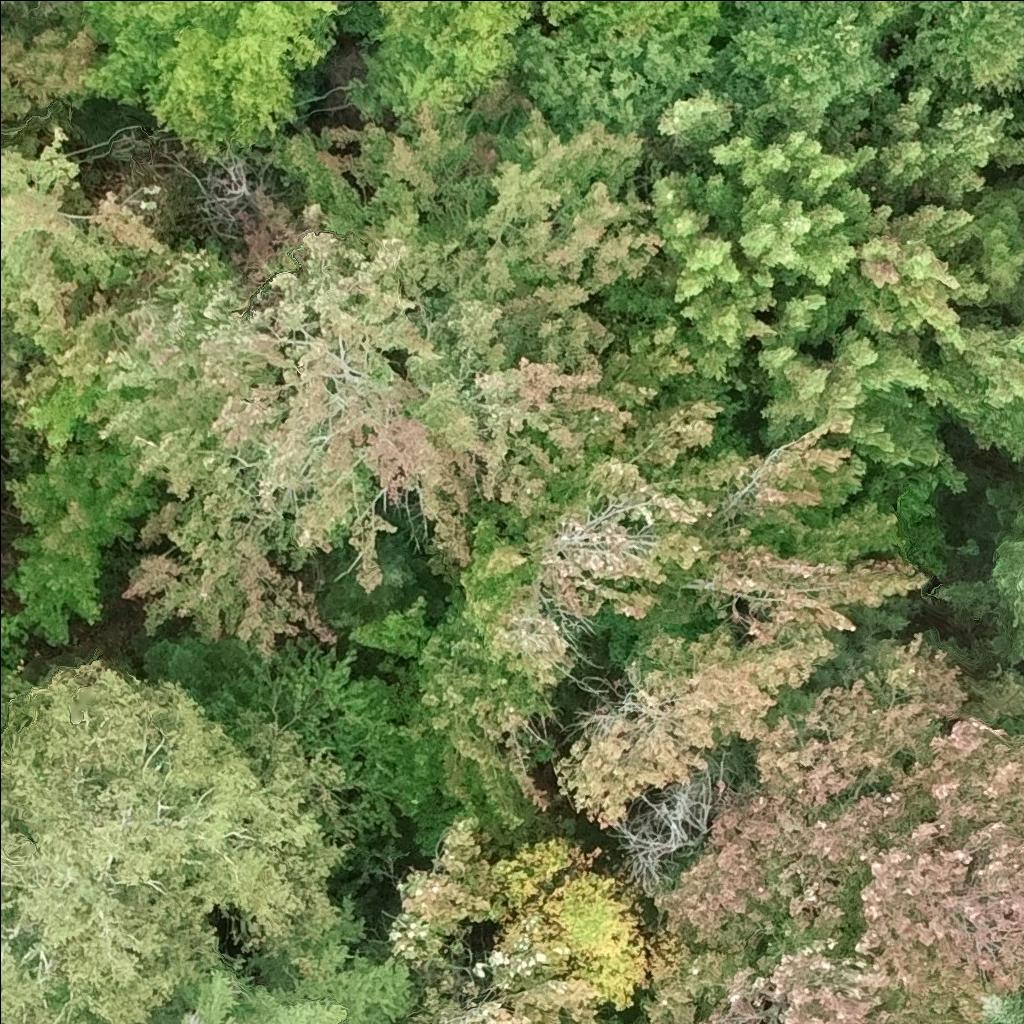crown: (7, 76, 672, 660), (588, 72, 1023, 577), (401, 321, 724, 837), (0, 659, 363, 1023), (655, 672, 1023, 1023), (554, 614, 847, 833), (648, 417, 931, 640), (384, 808, 620, 1023), (73, 0, 354, 160), (750, 627, 970, 816), (1, 445, 164, 655), (159, 893, 417, 1023), (347, 0, 601, 130), (0, 121, 171, 289), (639, 920, 917, 1023), (709, 0, 902, 135), (496, 835, 645, 1007), (602, 750, 724, 899), (929, 478, 1023, 667), (893, 0, 1023, 103), (0, 241, 91, 358), (0, 22, 97, 120), (318, 528, 420, 616), (863, 0, 917, 29), (977, 990, 1023, 1023), (992, 91, 1023, 106), (1018, 455, 1023, 472), (0, 399, 3, 407), (1022, 178, 1023, 185)
